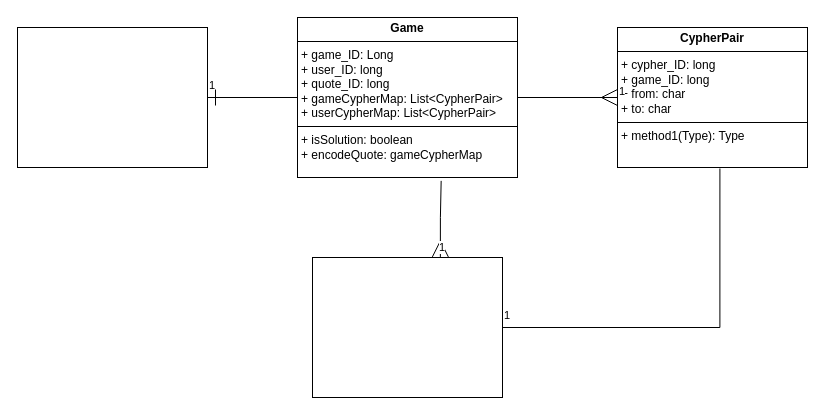
Some shapes in this 825 by 415 pixel diagram are drawn without their labels. Here are the shapes that lost their labels. From the top down, the centre of each, then its label:
At pixel 112 97: "Quote + quote_ID: long + quote: String + getNewQuote: String".
At pixel 407 327: "Move + move_ID: int + game_ID: Long + time_stamp: time + hint: CypherPair".
